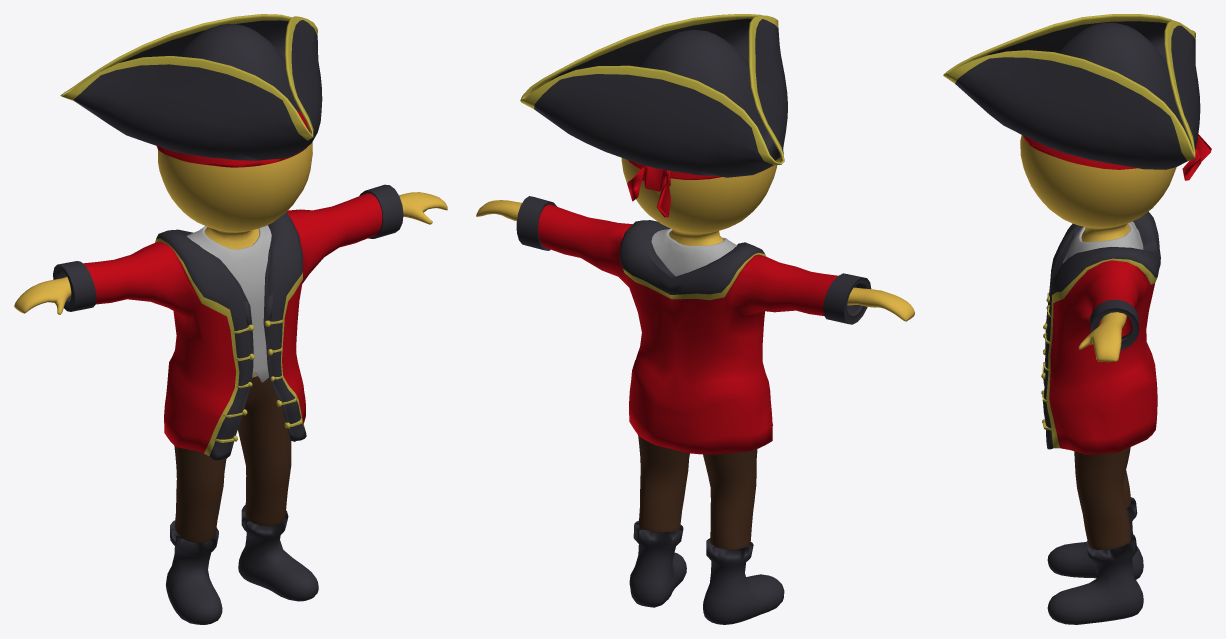
Rendered from pirate.fbx.
3 views of the same model, side by side, from view 1: azimuth 30°, elevation 25°; view 2: azimuth 150°, elevation 25°; view 3: azimuth 270°, elevation 25° (orthographic).
Visible parts, largest first — view 1: pirate; view 2: pirate; view 3: pirate.
Boxes of the visible parts, x1=… form: pirate: x1=14, y1=14, x2=447, y2=624; pirate: x1=476, y1=14, x2=914, y2=624; pirate: x1=943, y1=14, x2=1211, y2=624.
Size of the model in its own units: 1.55 by 0.8438 by 1.97.
